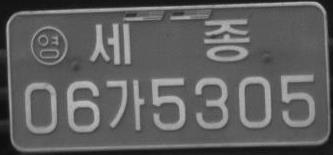0: (24, 81, 58, 135), (238, 75, 272, 129)
3: (194, 76, 229, 129)
5: (279, 73, 315, 128), (150, 77, 186, 131)
6: (65, 80, 100, 133)
가: (105, 78, 144, 130)
세종_D: (88, 17, 250, 65)
영: (30, 24, 68, 66)
